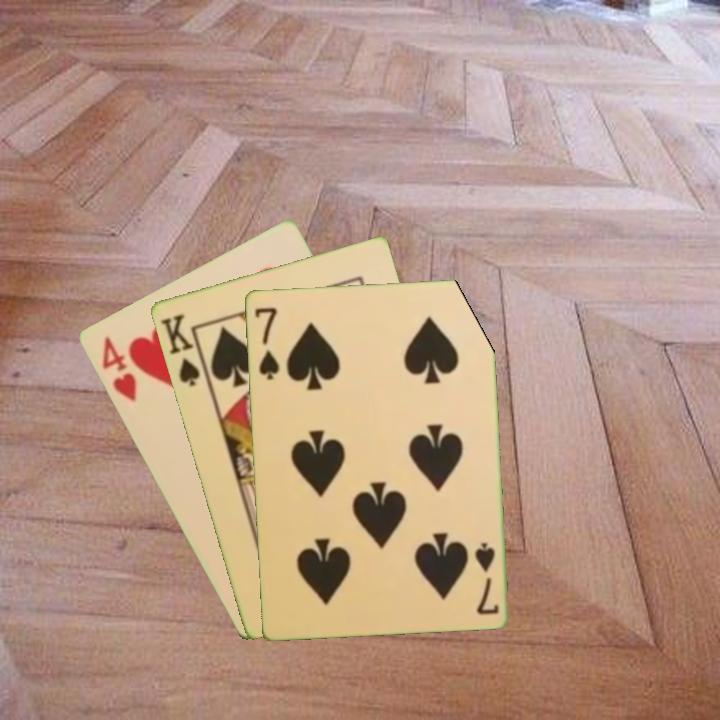4h: (97, 333, 139, 404)
7s: (250, 304, 282, 382), (470, 539, 501, 617)
Ks: (156, 310, 210, 389)
